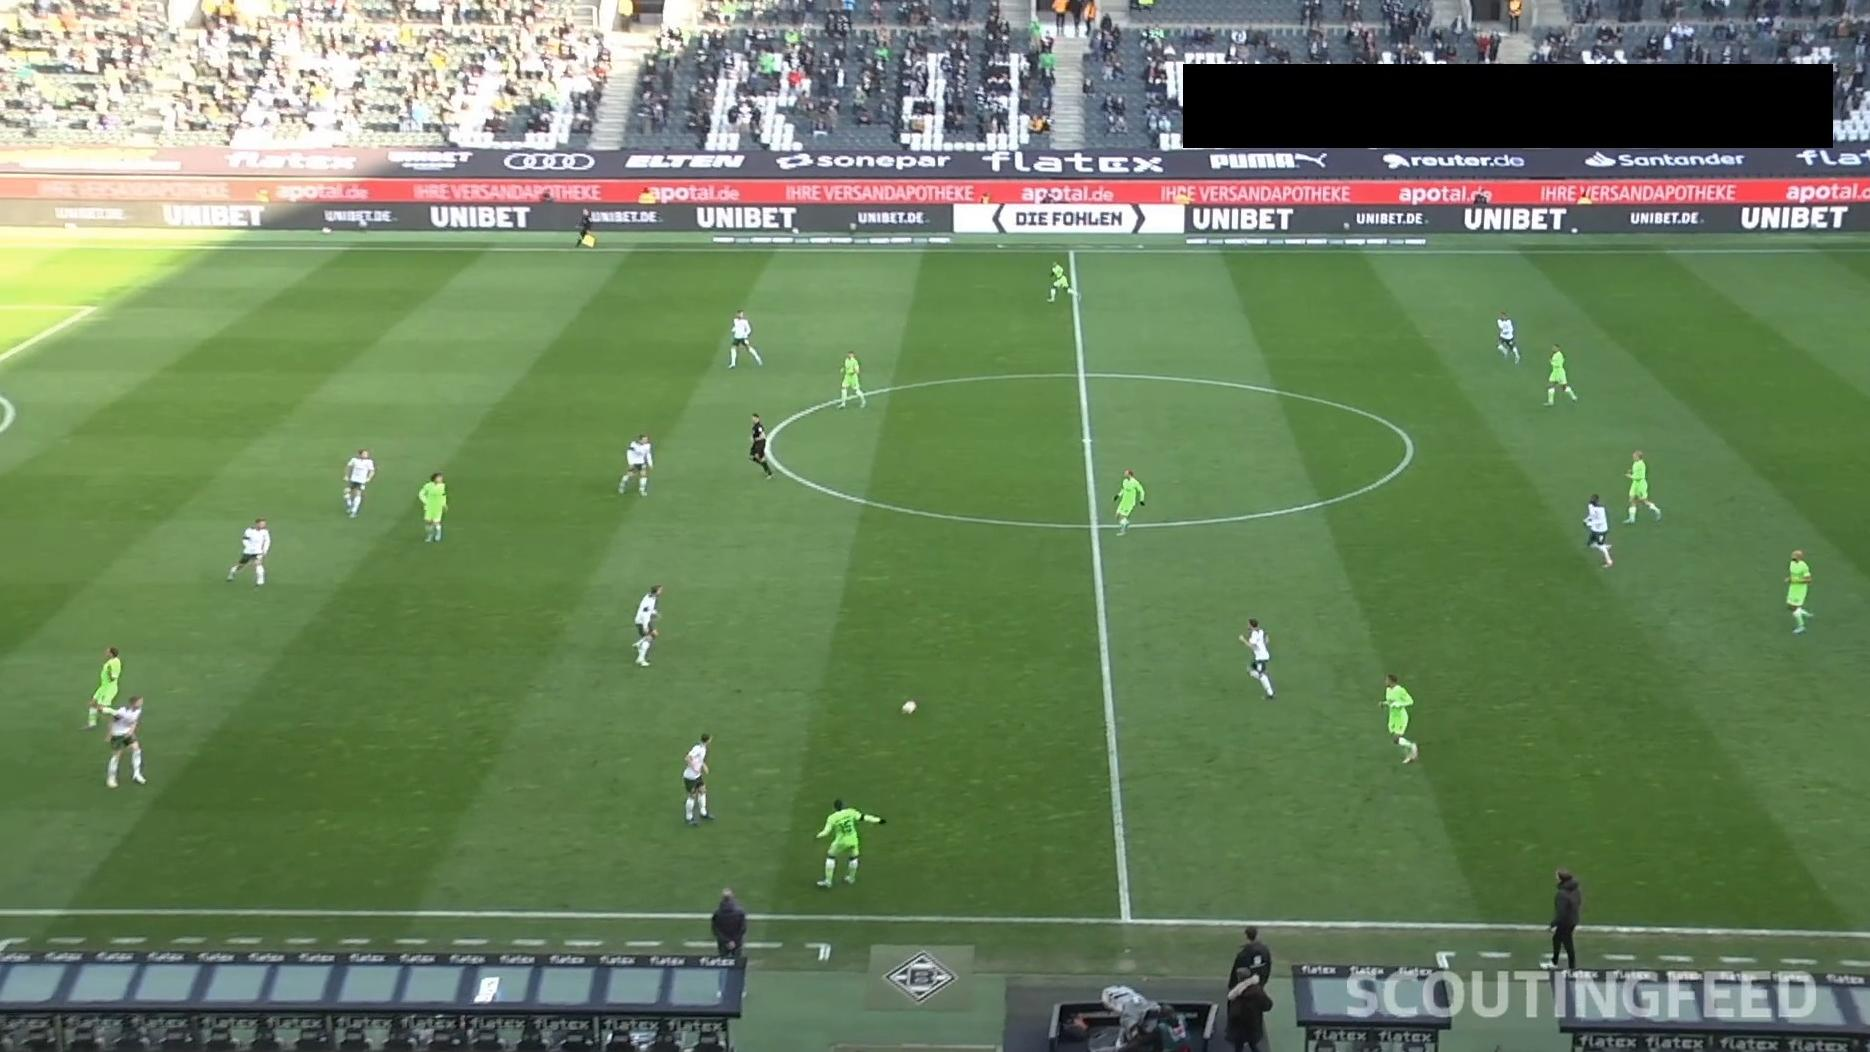ball: (900, 700, 918, 715)
